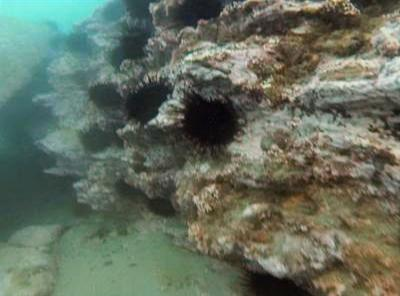urchin: (183, 92, 251, 149), (165, 0, 227, 29), (76, 122, 126, 154), (133, 79, 173, 118), (119, 25, 153, 59), (88, 80, 123, 110), (118, 0, 161, 24), (147, 194, 180, 222)
